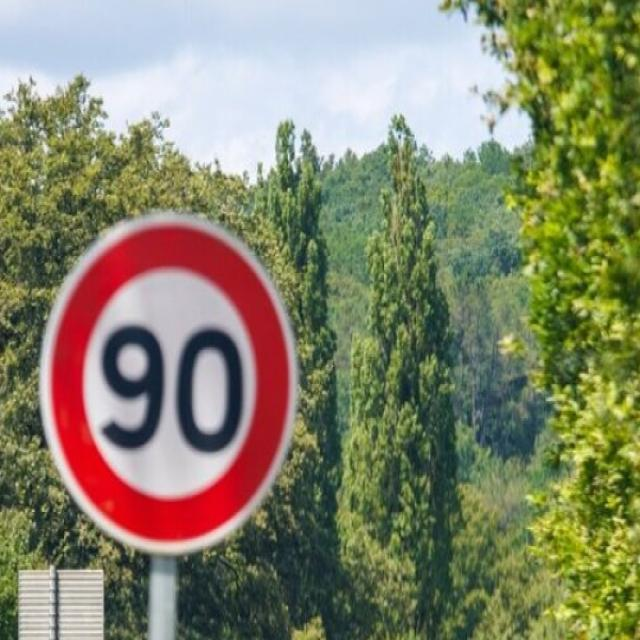Speed Limit -90-: (33, 206, 301, 556)
